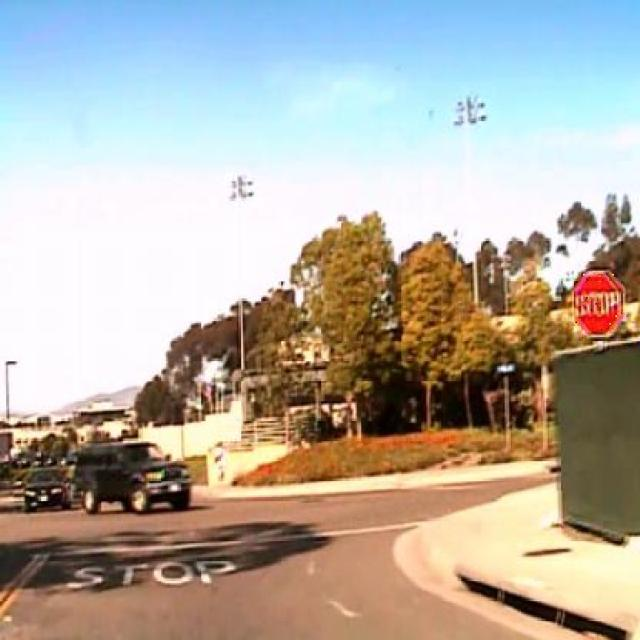stop: (576, 269, 624, 336)
